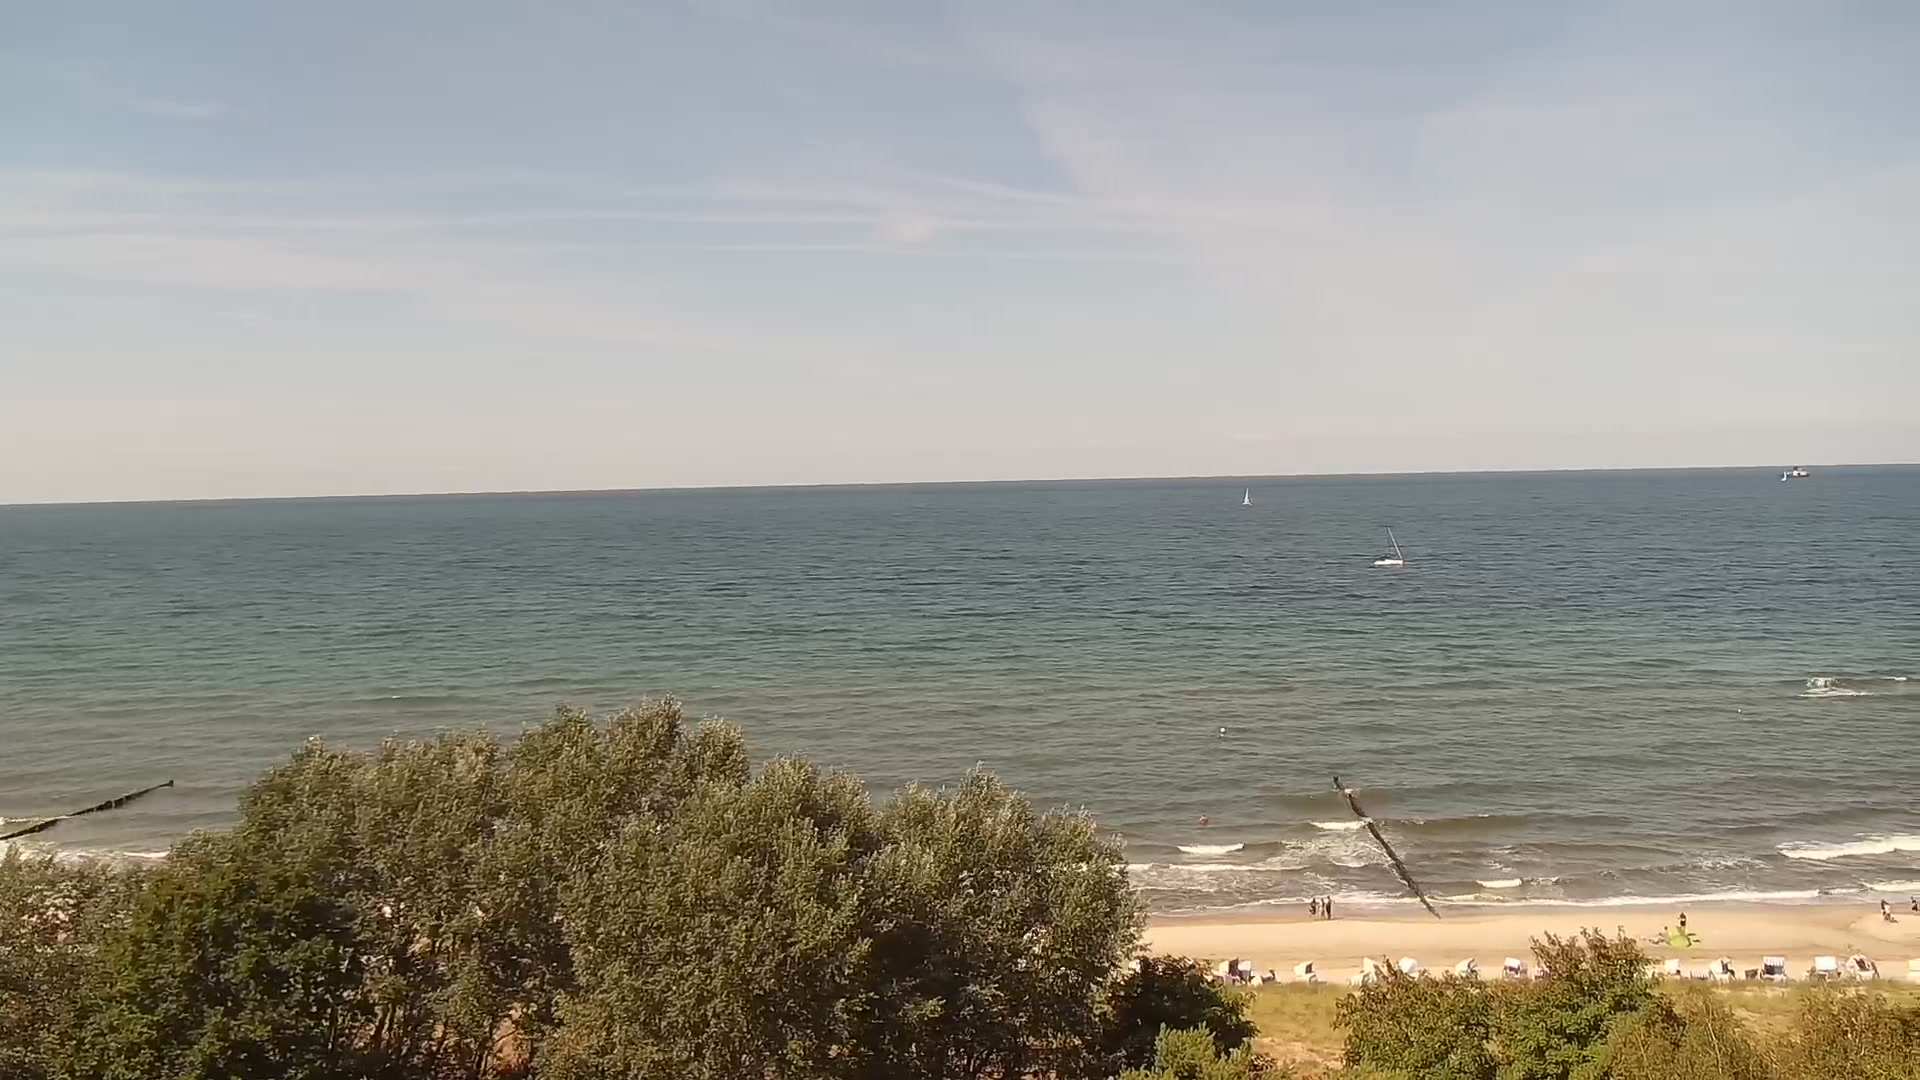human: (1325, 895, 1334, 919), (1910, 895, 1920, 915), (1318, 897, 1326, 919), (1677, 910, 1686, 932), (1883, 901, 1892, 920), (1309, 896, 1317, 916), (1880, 898, 1886, 915)
sea: (1372, 524, 1404, 565), (1780, 465, 1809, 478), (1242, 487, 1253, 505), (1780, 470, 1787, 481)
